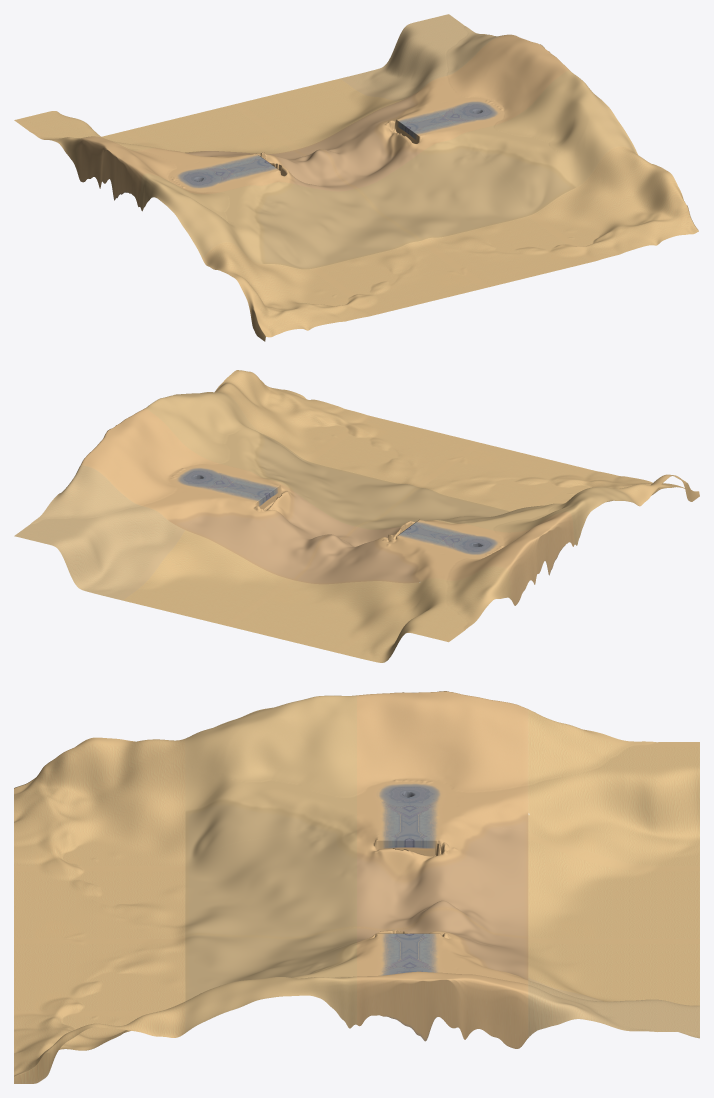
File: terrain.glb
3 renders of one model, top to bottom at view 1: azimuth 30°, elevation 25°; view 2: azimuth 150°, elevation 25°; view 3: azimuth 270°, elevation 25°, orthographic. The views are drawn at different scales.
Visible parts, largest first — view 1: Terrain; view 2: Terrain; view 3: Terrain.
Boxes of the visible parts, x1=… form: Terrain: x1=14, y1=14, x2=698, y2=341; Terrain: x1=14, y1=370, x2=699, y2=662; Terrain: x1=14, y1=691, x2=699, y2=1083.
Size of the model in its own units: 300 by 49.93 by 300.
16 materials, 16 textured.
